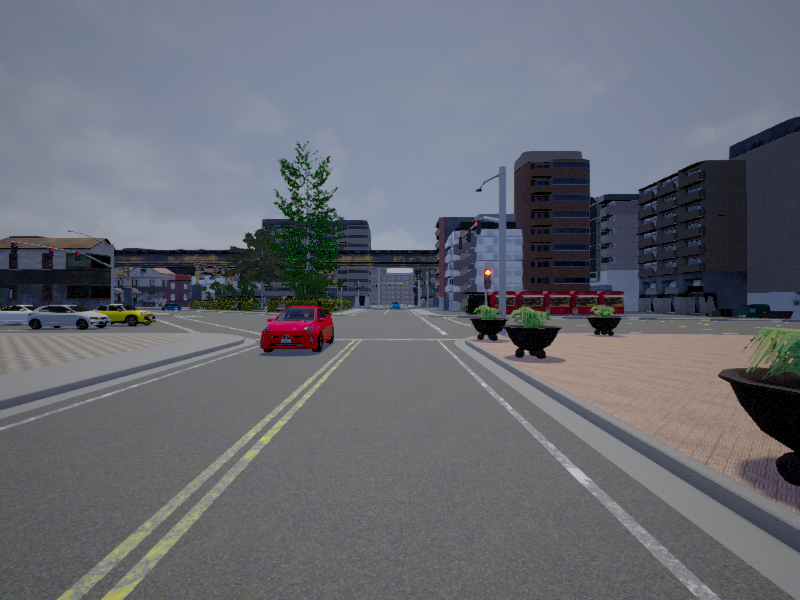Benign: (263, 306, 340, 353), (29, 301, 112, 328), (95, 303, 157, 327), (1, 303, 43, 326)
